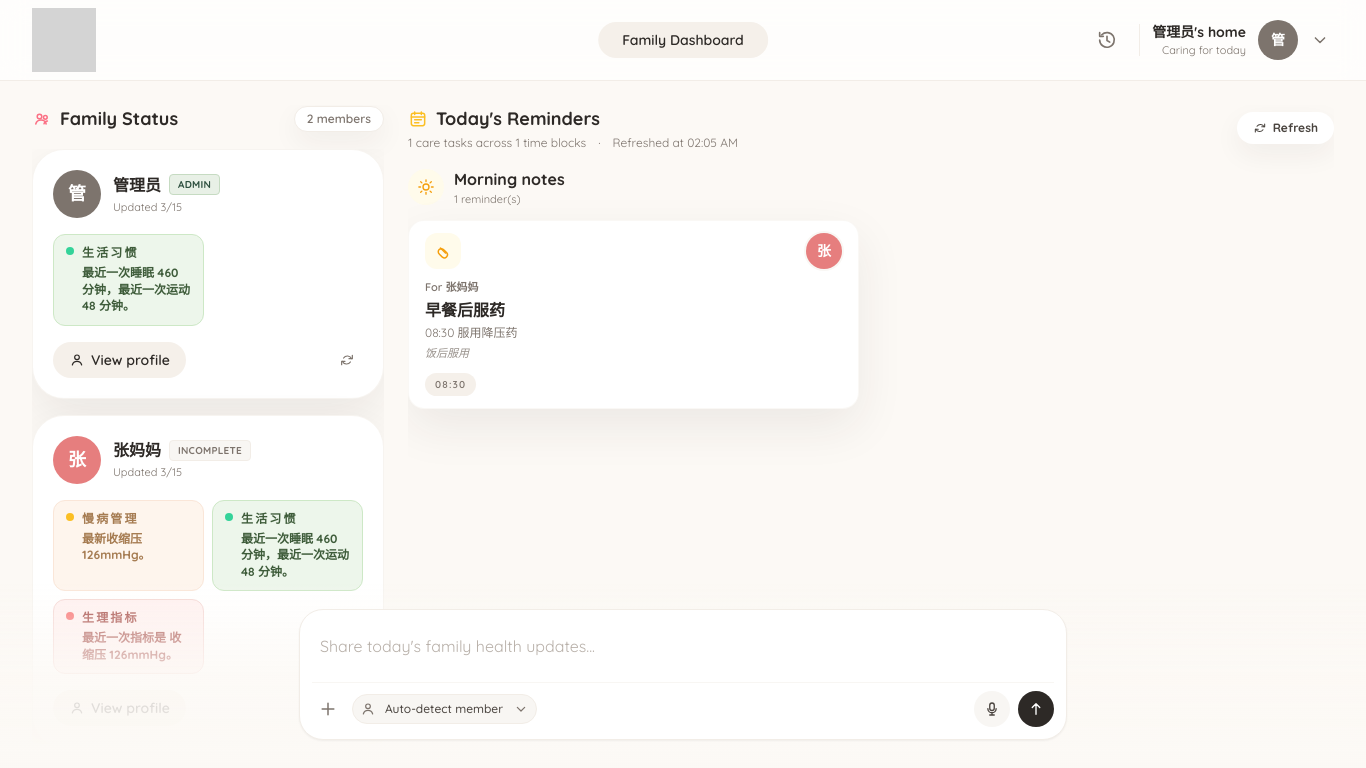
Test: App › sends the current preferences language with chat requests
Click the button named "Send text" at (1036, 709), box x1=1018 y1=691 x2=1054 y2=727
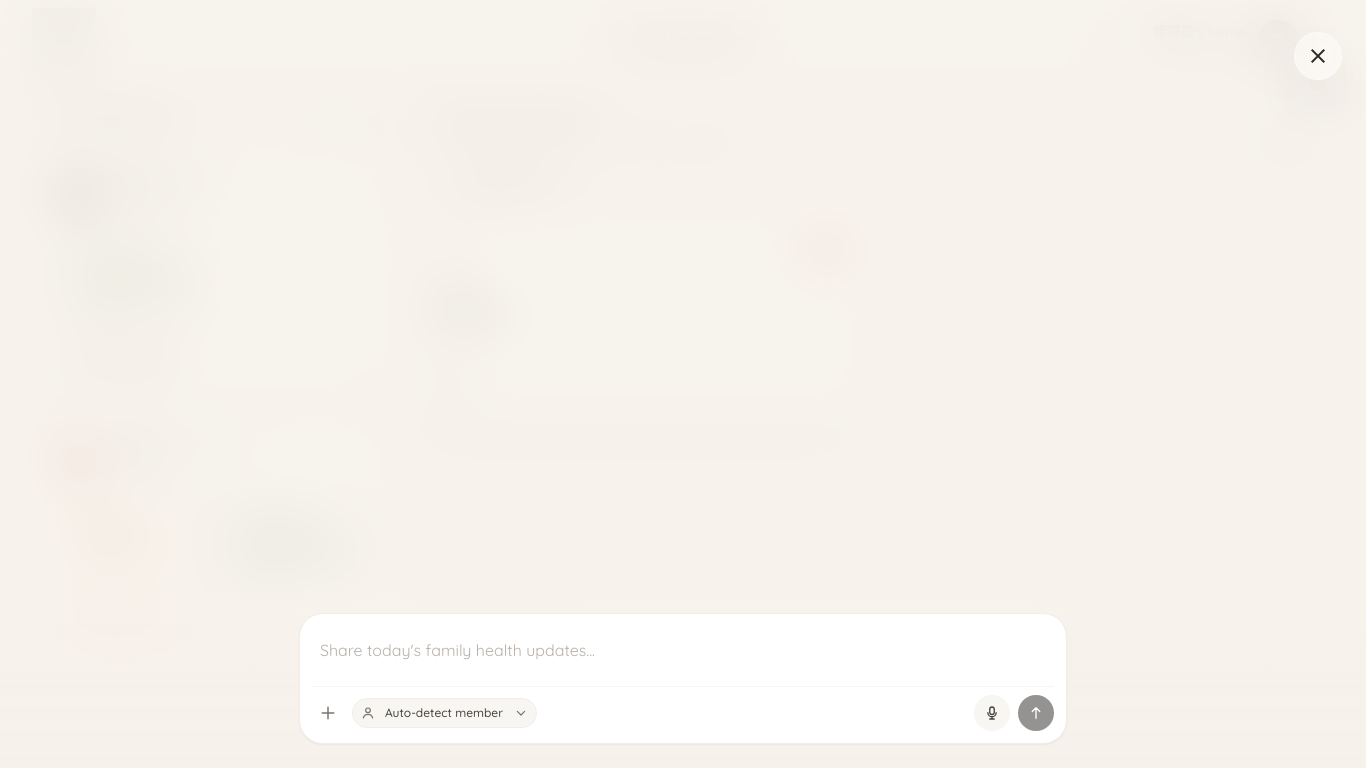
Type "Summarize today's status" into the text box named "Chat input" at (683, 650), box x1=320 y1=630 x2=1046 y2=670
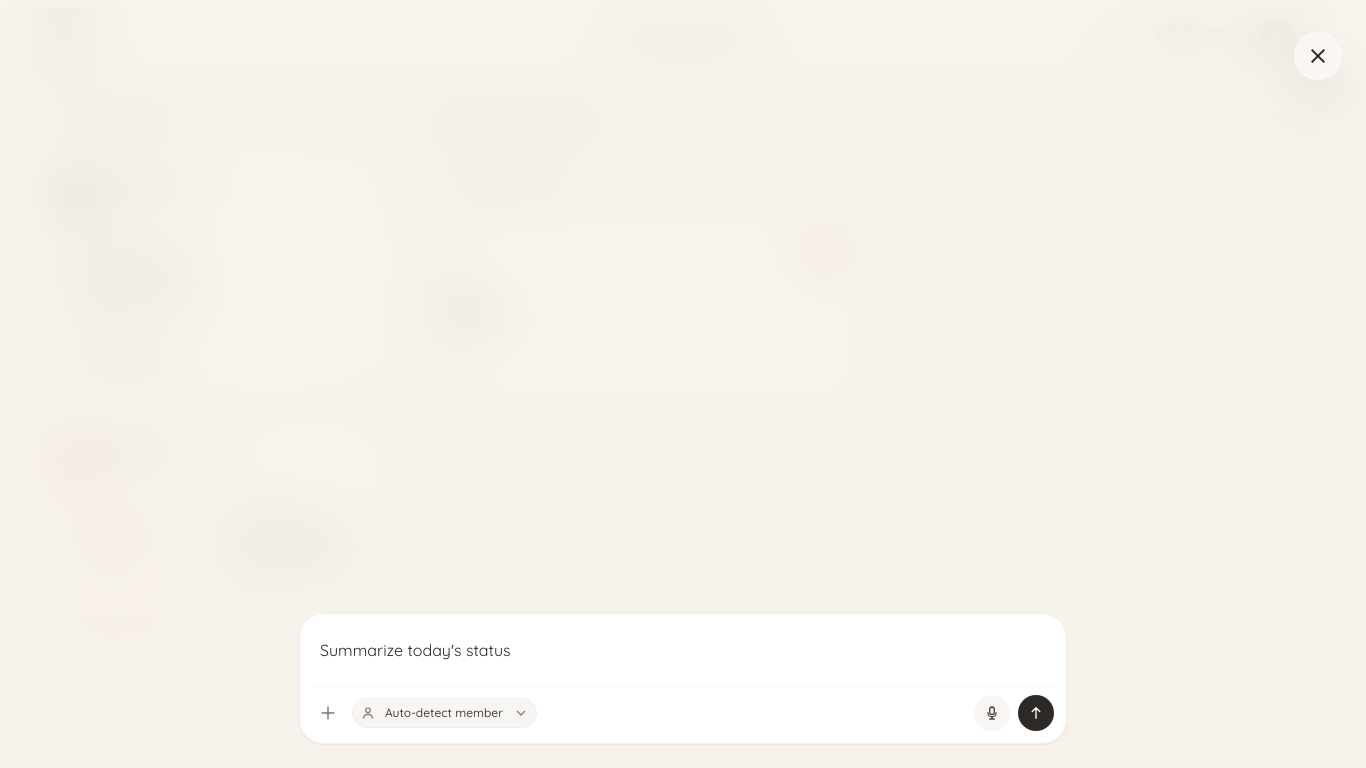
Click the button named "send" at (1036, 713), box x1=1018 y1=695 x2=1054 y2=731
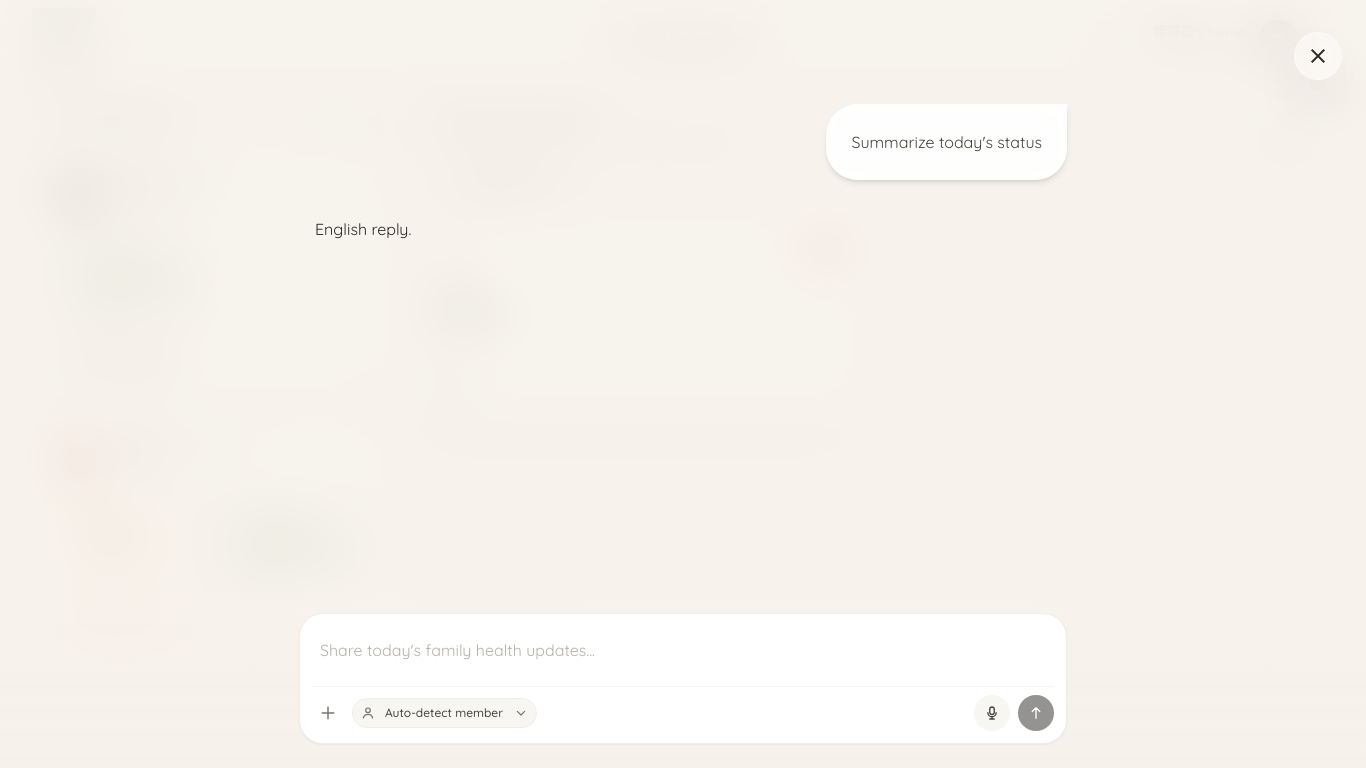
Check: the text "English reply." is shown, box x1=315 y1=219 x2=411 y2=239
